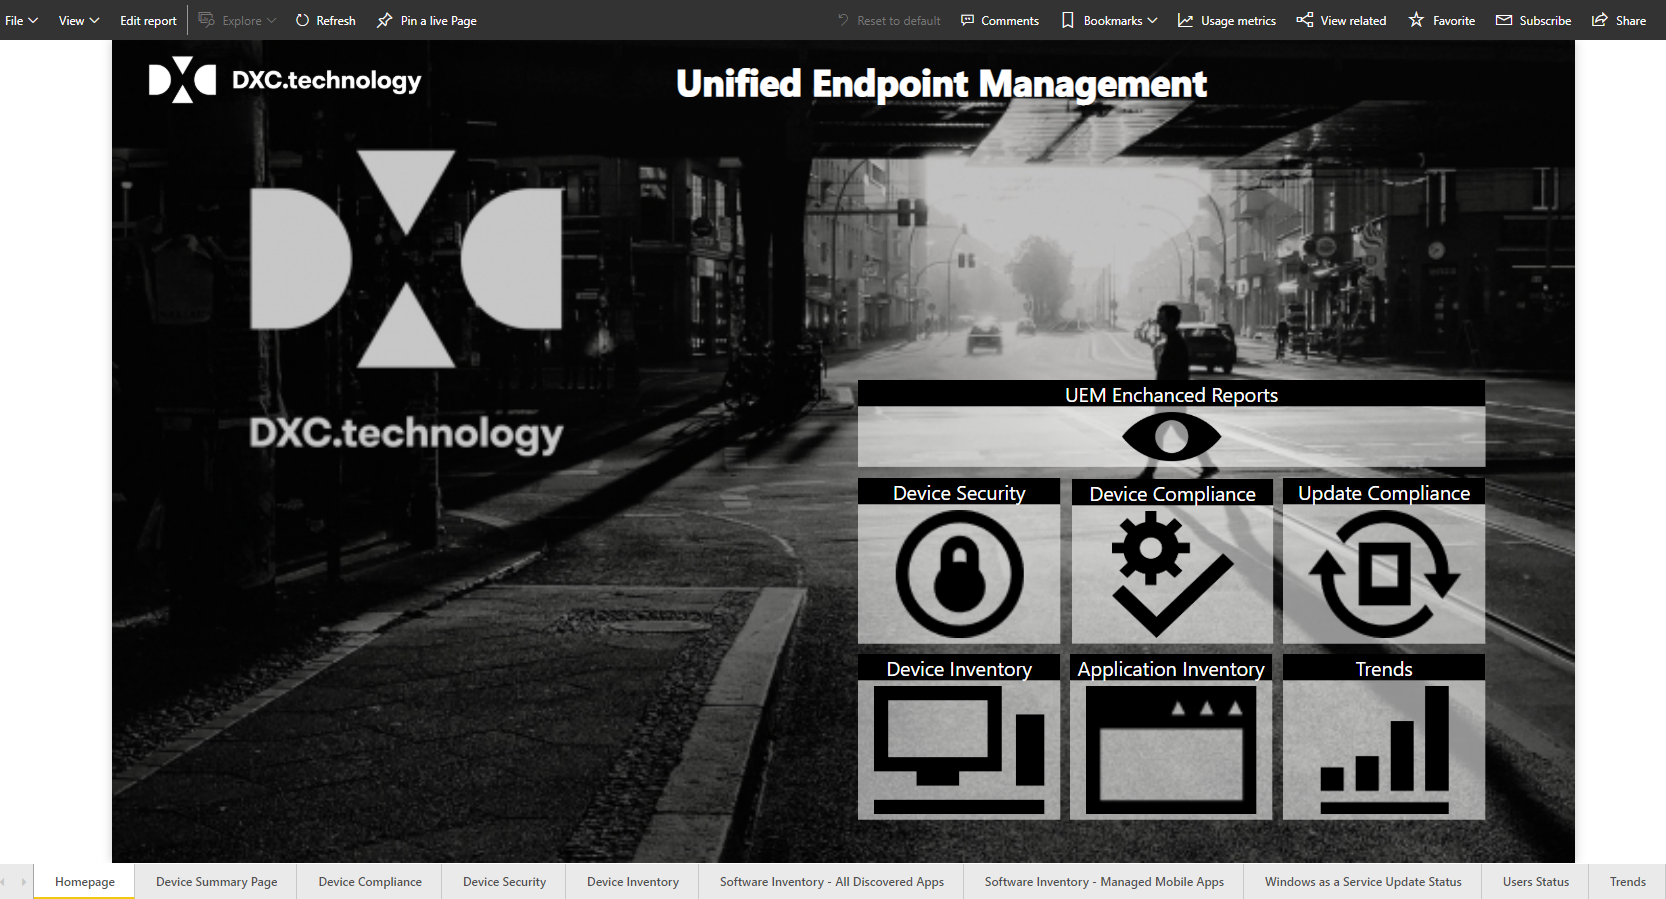DXC: (250, 146, 565, 453), (151, 54, 422, 104)
